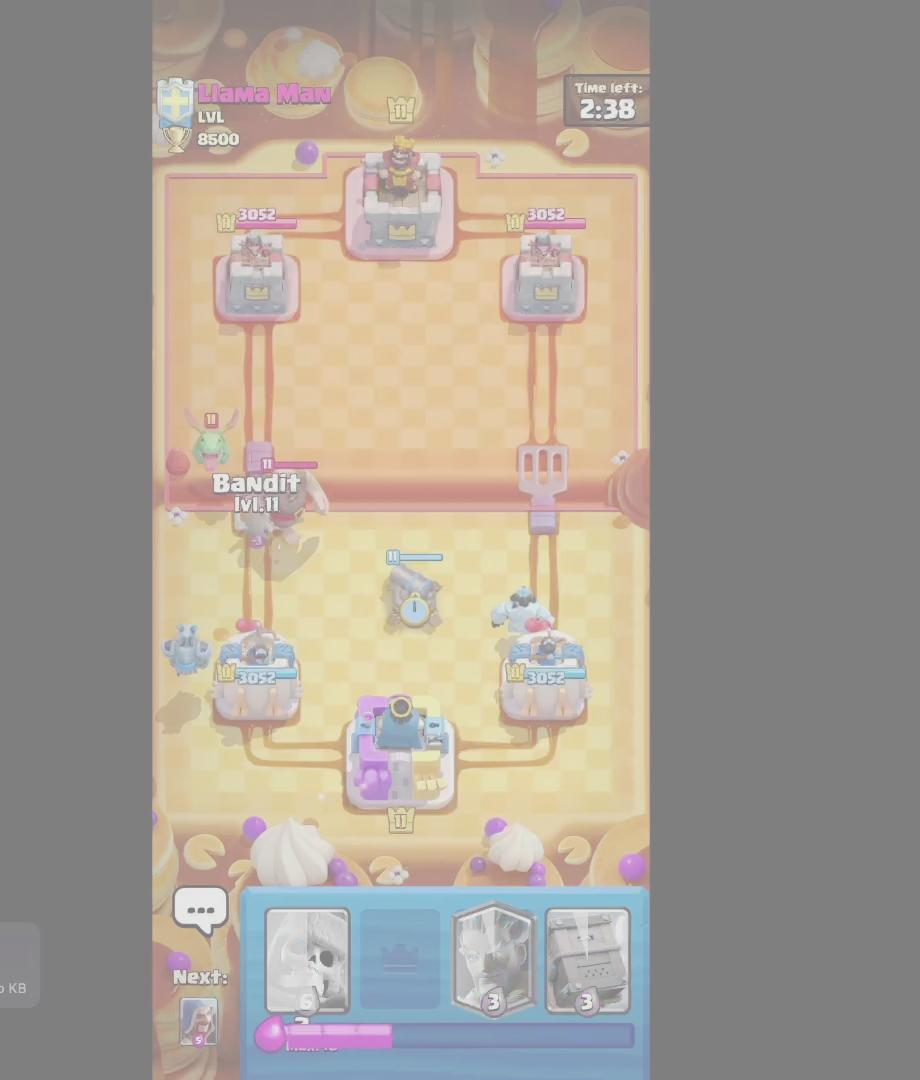Baby Dragon: (178, 404, 247, 475)
Giant: (257, 453, 334, 545)
